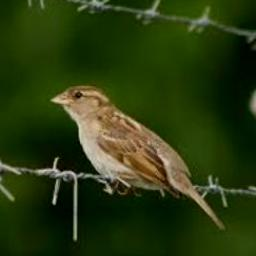Sparrow: (50, 84, 227, 229)
